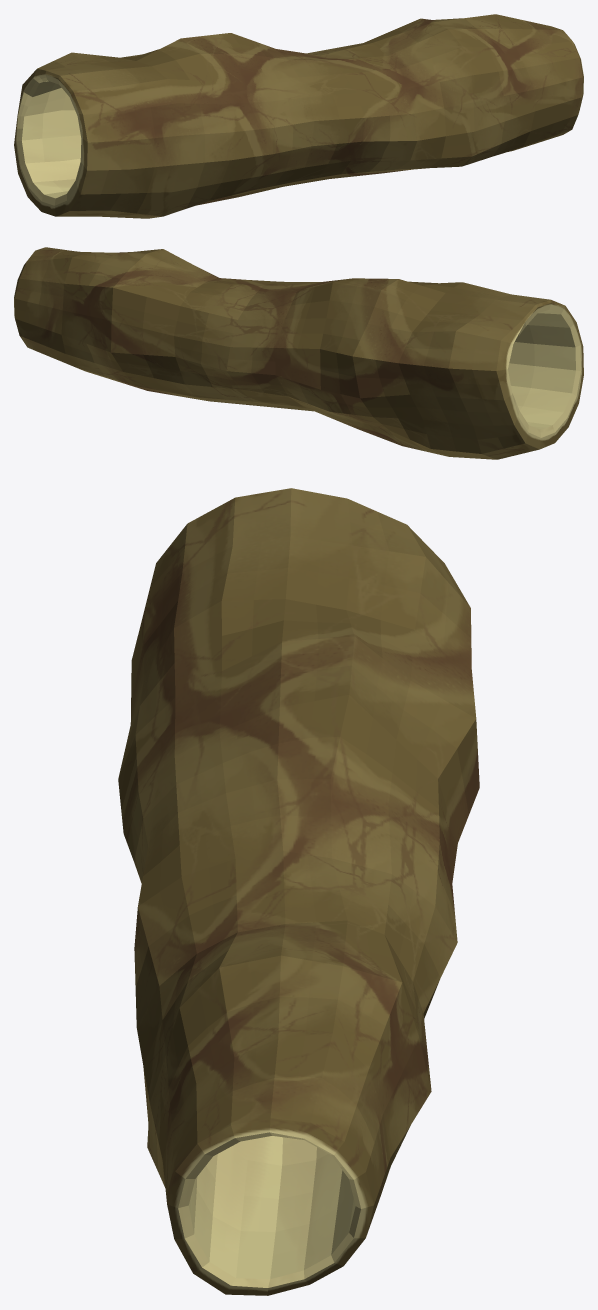
File: logFull.fbx
3 renders of one model, top to bottom at view 1: azimuth 30°, elevation 25°; view 2: azimuth 150°, elevation 25°; view 3: azimuth 270°, elevation 25°, orthographic. The views are drawn at different scales.
Parts seen in each view (by area): view 1: pCylinder6; view 2: pCylinder6; view 3: pCylinder6.
Part boxes in pixels (left/top/right/bottom): pCylinder6: left=14, top=14, right=583, bottom=218; pCylinder6: left=14, top=247, right=583, bottom=459; pCylinder6: left=118, top=488, right=479, bottom=1295.
Size of the model in its own units: 587 by 187 by 177.
Materials: 1 (1 with a texture image).
